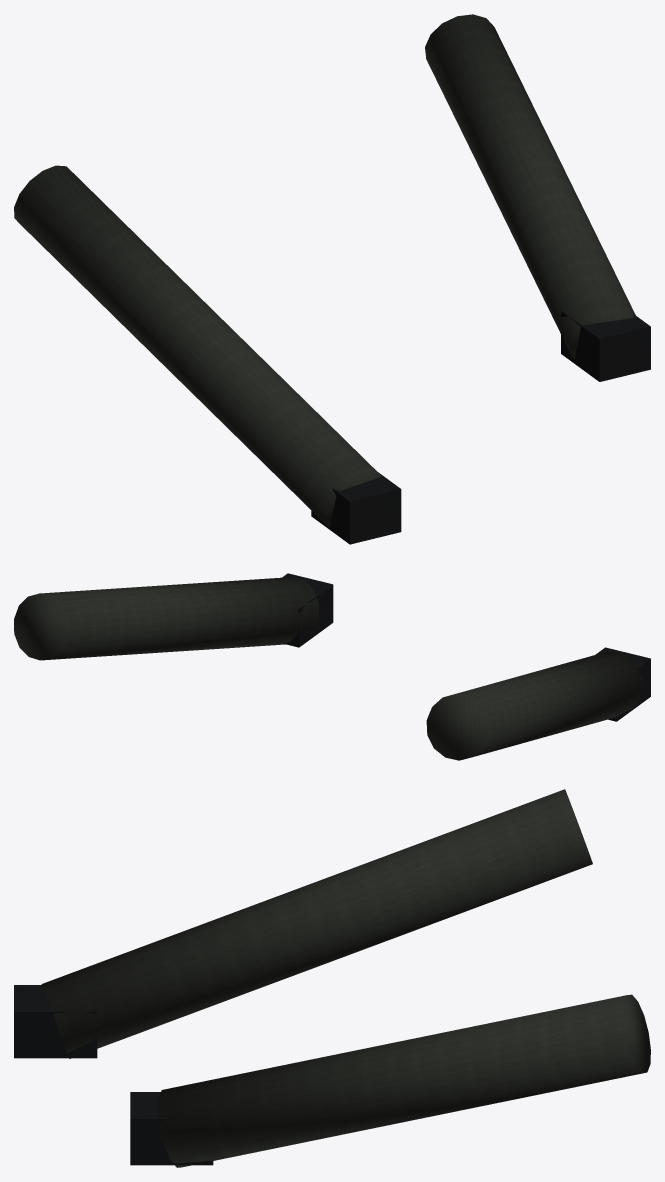
The model's file is fps_arms.fbx.
The picture shows the model from 3 angles, top to bottom: view 1: azimuth 30°, elevation 25°; view 2: azimuth 150°, elevation 25°; view 3: azimuth 270°, elevation 25°; orthographic projection. The views are drawn at different scales.
Parts seen in each view (by area): view 1: FpsArmsMesh; view 2: FpsArmsMesh; view 3: FpsArmsMesh.
Part boxes in pixels (box(x1,y1,x2,y2)): FpsArmsMesh: box(14, 14, 650, 544); FpsArmsMesh: box(14, 573, 650, 760); FpsArmsMesh: box(14, 789, 650, 1167).
Size of the model in its own units: 27.64 by 27.82 by 12.23.
